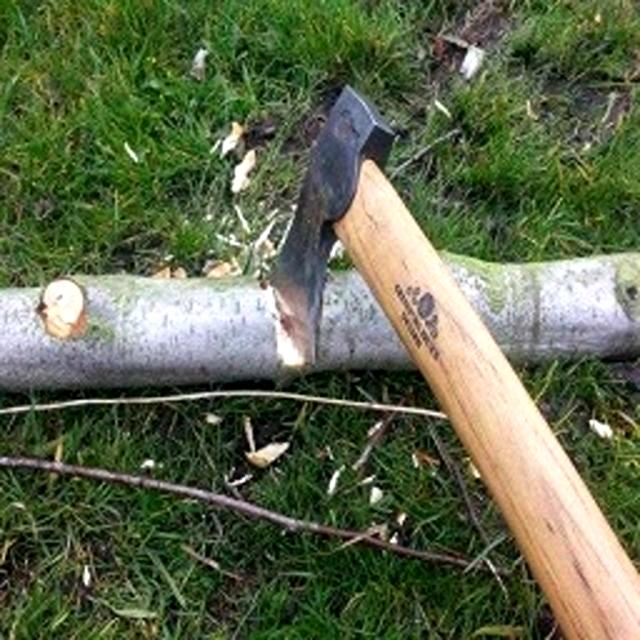ax: (251, 74, 640, 640)
